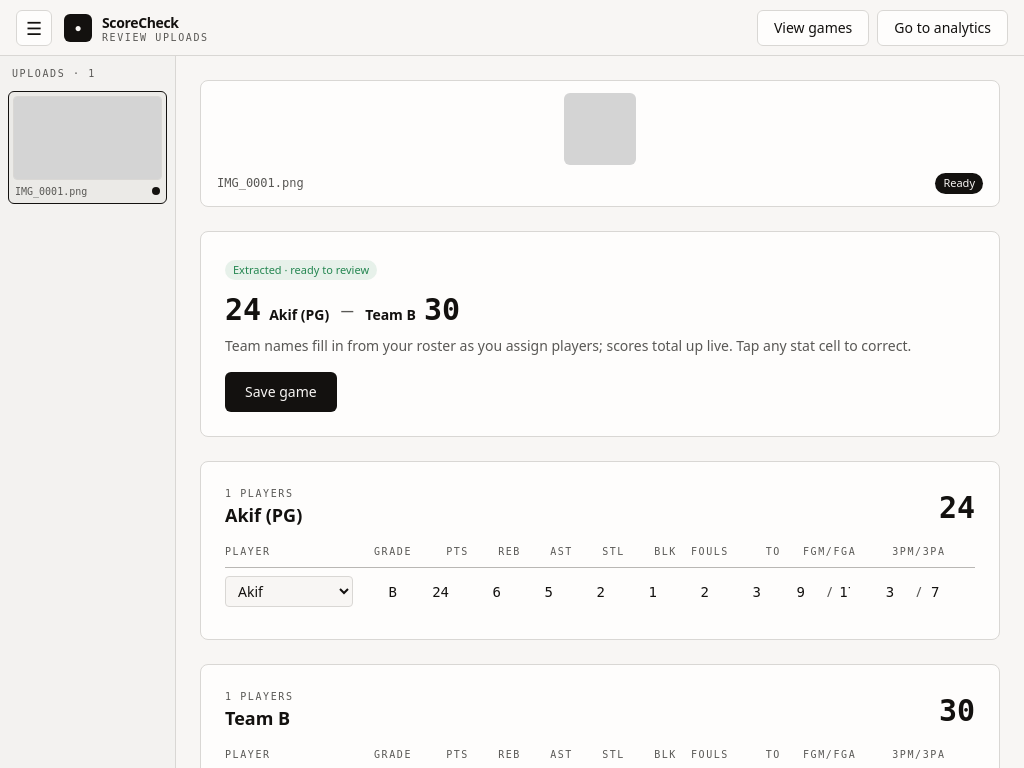
Scenario: the top bar › shows Admin to an admin
Click the button named "Open navigation". click: (34, 28)
box: 16,10 -> 52,46
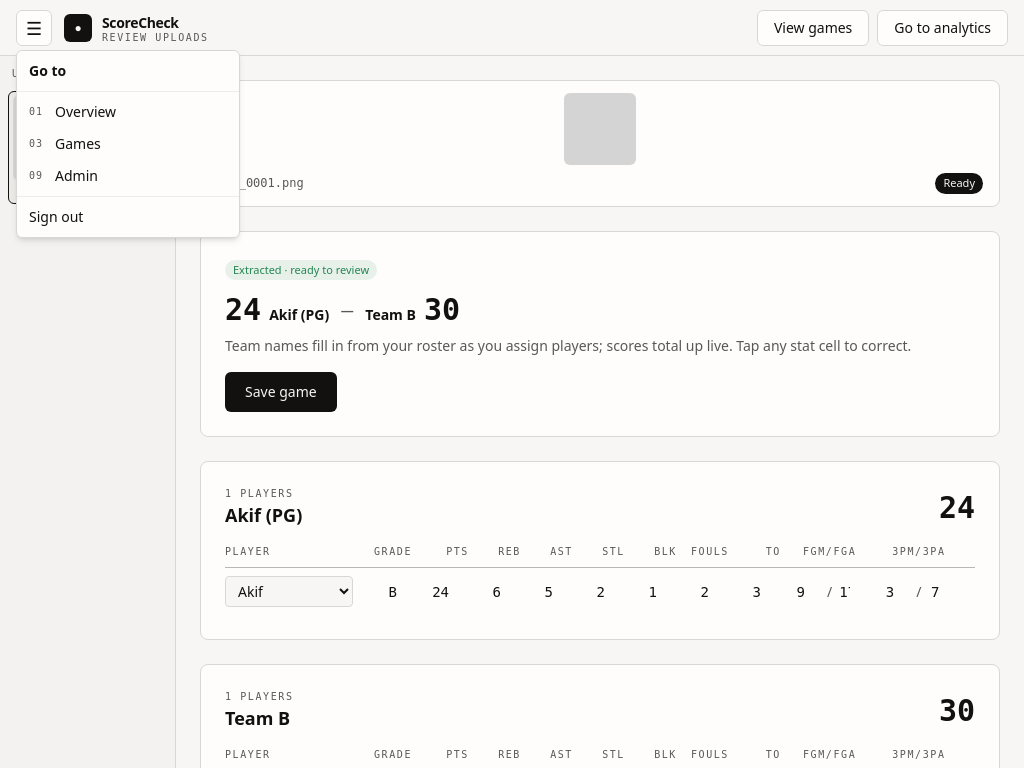
Expected: the text "Admin" is shown, 55,166 -> 98,186
